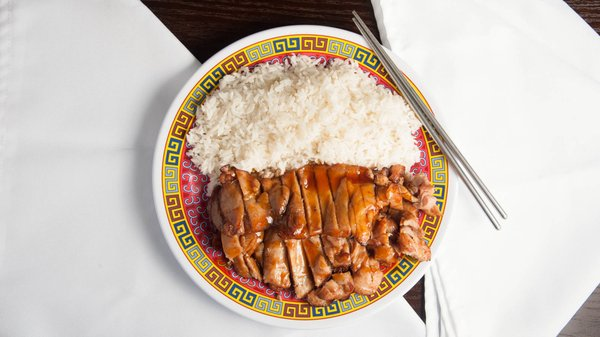burger: (352, 7, 509, 235)
sushi: (151, 21, 451, 328)
